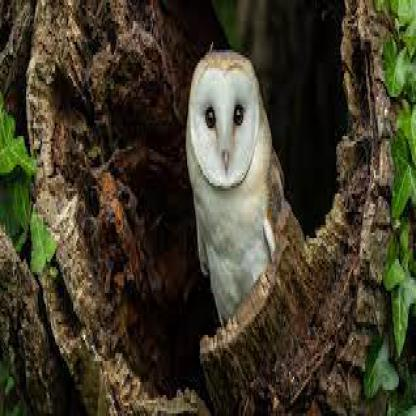owl: (166, 32, 378, 414)
